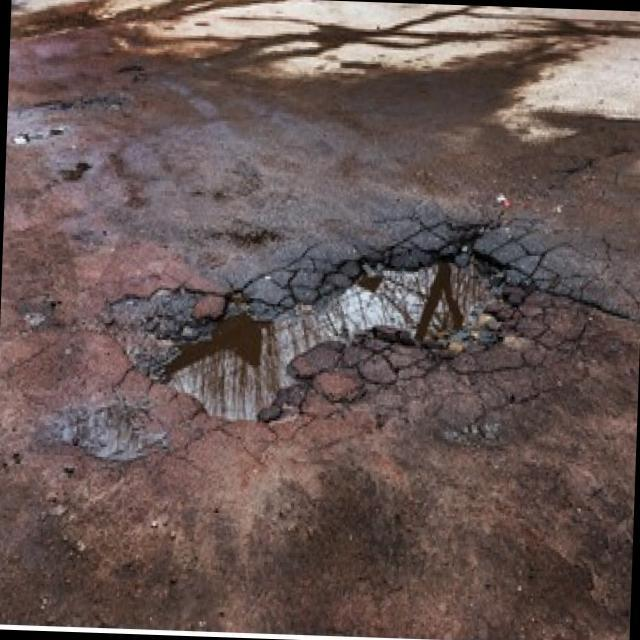Pothole: (116, 231, 528, 436)
